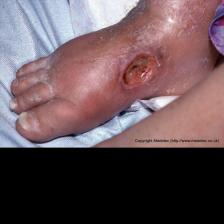Wound: (114, 52, 172, 91)
